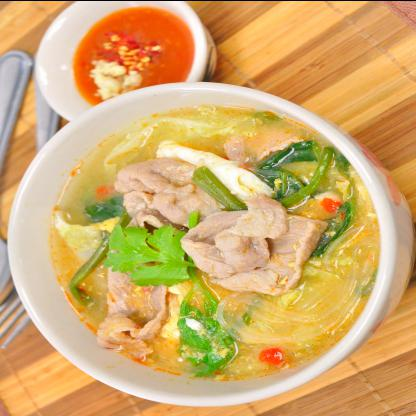Suki: (27, 100, 394, 392)
